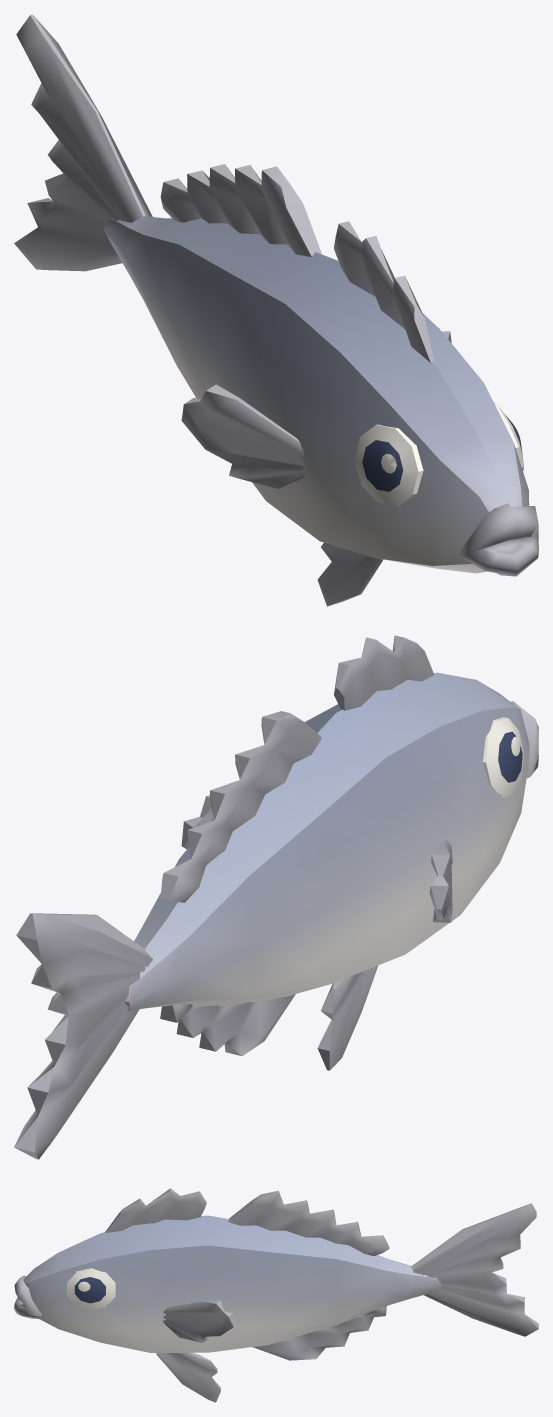
The picture shows the model from 3 angles, top to bottom: view 1: azimuth 30°, elevation 25°; view 2: azimuth 150°, elevation 25°; view 3: azimuth 270°, elevation 25°; orthographic projection. The views are drawn at different scales.
Visible parts, largest first — view 1: Fish_HorseMackerel; view 2: Fish_HorseMackerel; view 3: Fish_HorseMackerel.
Boxes of the visible parts, x1,y1,x2,y2 form: Fish_HorseMackerel: (14, 14, 538, 606); Fish_HorseMackerel: (14, 635, 538, 1159); Fish_HorseMackerel: (14, 1188, 538, 1402).
Size of the model in its own units: 12.02 by 17.36 by 38.79.
